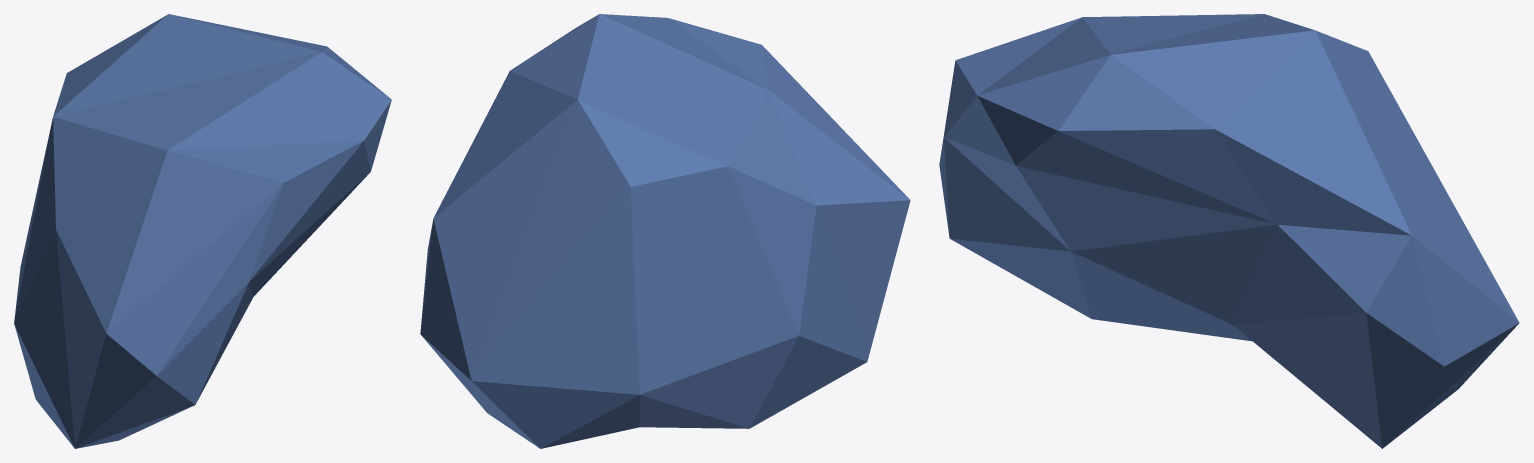
Rendered from Rock_C_005.fbx.
The picture shows the model from 3 angles, left to right: view 1: azimuth 30°, elevation 25°; view 2: azimuth 150°, elevation 25°; view 3: azimuth 270°, elevation 25°; orthographic projection. The views are drawn at different scales.
Visible parts, largest first — view 1: Rock C.005; view 2: Rock C.005; view 3: Rock C.005.
Boxes of the visible parts, bbox=[...] form: Rock C.005: bbox=[14, 14, 391, 448]; Rock C.005: bbox=[420, 14, 910, 448]; Rock C.005: bbox=[939, 14, 1519, 448].
Bounding box in the file's own units: 31.65 × 29.76 × 39.73.
